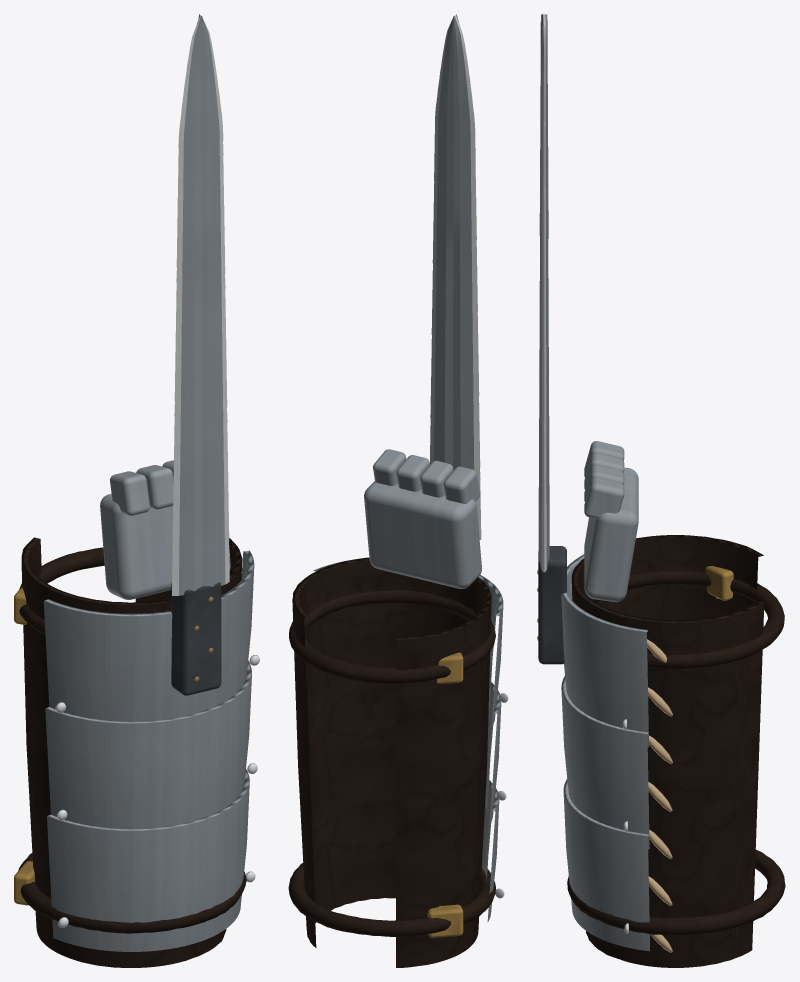
File: arm-blade.glb
3 views of the same model, side by side, from view 1: azimuth 30°, elevation 25°; view 2: azimuth 150°, elevation 25°; view 3: azimuth 270°, elevation 25° (orthographic). The views are drawn at different scales.
Visible parts, largest first — view 1: steel / forged blade steel, leather / oiled leather wrap, edge / honed bright bevel, darksteel / oil-blackened fittings, brass / polished brass furniture; view 2: leather / oiled leather wrap, steel / forged blade steel, edge / honed bright bevel, brass / polished brass furniture; view 3: leather / oiled leather wrap, steel / forged blade steel, darksteel / oil-blackened fittings, edge / honed bright bevel, thread loop, brass / polished brass furniture.
Boxes of the visible parts, x1,y1,x2,y2 form: steel / forged blade steel: [43, 14, 254, 951]; leather / oiled leather wrap: [18, 537, 246, 967]; edge / honed bright bevel: [55, 15, 259, 927]; darksteel / oil-blackened fittings: [171, 582, 221, 695]; brass / polished brass furniture: [14, 586, 34, 905]; leather / oiled leather wrap: [288, 557, 495, 967]; steel / forged blade steel: [313, 14, 503, 921]; edge / honed bright bevel: [430, 15, 508, 898]; brass / polished brass furniture: [427, 652, 463, 937]; leather / oiled leather wrap: [567, 535, 785, 967]; steel / forged blade steel: [538, 14, 649, 951]; darksteel / oil-blackened fittings: [538, 546, 566, 664]; edge / honed bright bevel: [541, 14, 628, 933]; thread loop: [647, 639, 672, 952]; brass / polished brass furniture: [705, 566, 733, 600].
Size of the model in its own units: 0.1579 by 0.705 by 0.1732.
7 materials, 5 textured.
